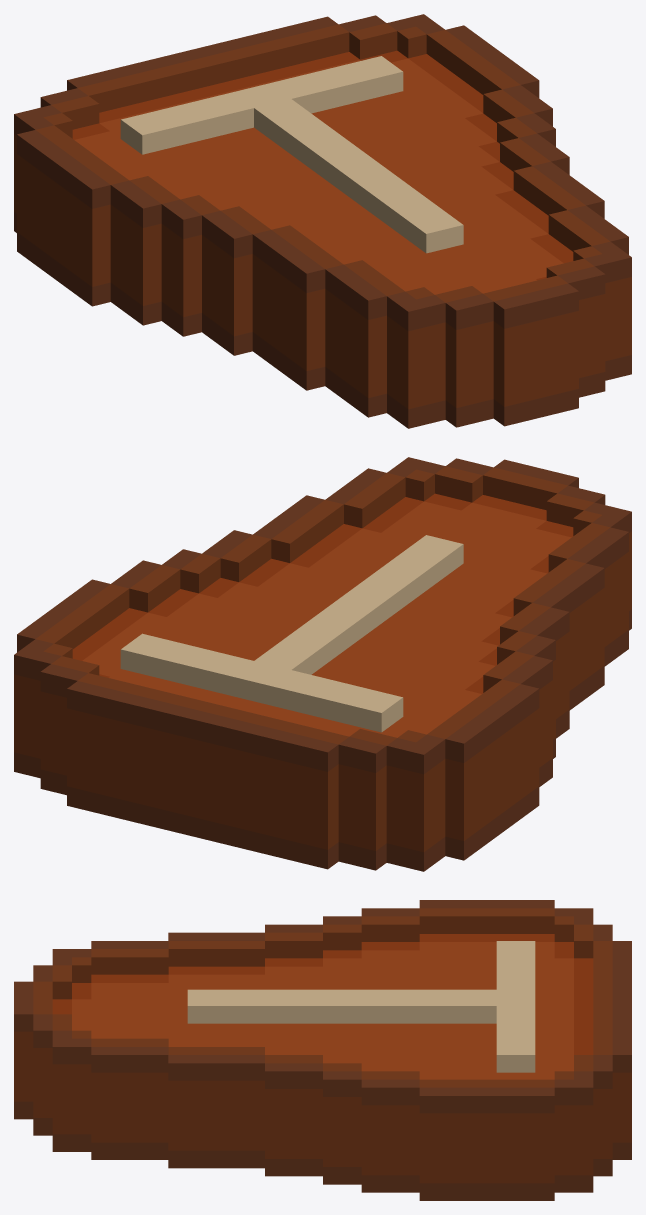
The model's file is Cooked Beef.fbx.
The picture shows the model from 3 angles, top to bottom: view 1: azimuth 30°, elevation 25°; view 2: azimuth 150°, elevation 25°; view 3: azimuth 270°, elevation 25°; orthographic projection. The views are drawn at different scales.
Parts seen in each view (by area): view 1: Cooked Beef; view 2: Cooked Beef; view 3: Cooked Beef.
Part boxes in pixels (<box>): Cooked Beef: <box>14,14,631,428</box>; Cooked Beef: <box>14,457,631,871</box>; Cooked Beef: <box>14,900,631,1200</box>.
Size of the model in its own units: 0.36 by 0.48 by 0.09.
Materials: 1 (1 with a texture image).
